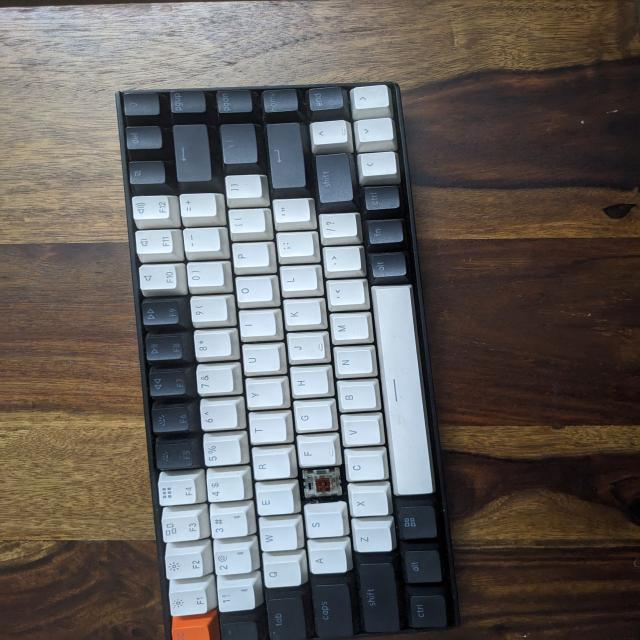C: (298, 464, 348, 501)
